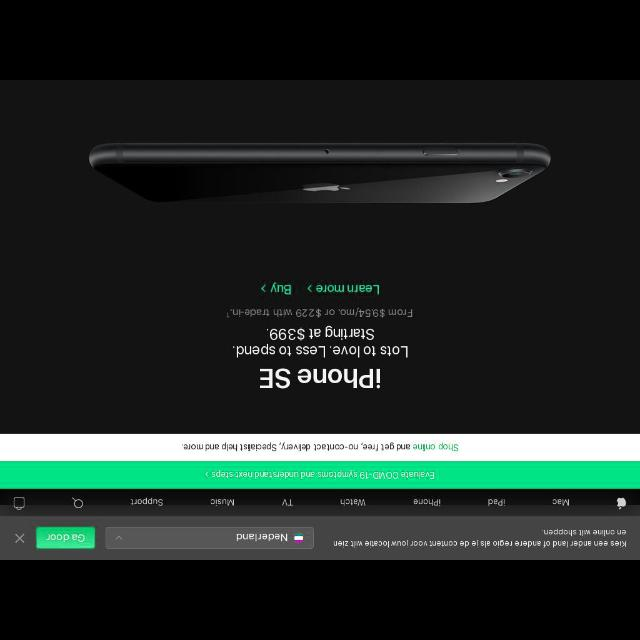backgroundimage: (1, 81, 639, 433)
icon: (12, 496, 26, 512), (614, 496, 628, 510), (14, 531, 26, 545), (72, 496, 82, 510), (294, 534, 304, 544), (114, 532, 124, 542), (204, 472, 210, 478)
link: (306, 280, 382, 296), (258, 280, 292, 296), (412, 443, 458, 453)
spinner: (106, 528, 314, 548)
text: (226, 326, 412, 362), (332, 528, 626, 548), (180, 442, 462, 456), (257, 366, 385, 392), (223, 306, 414, 322), (210, 469, 438, 481), (235, 532, 288, 542), (46, 532, 84, 544), (129, 497, 167, 508), (412, 498, 442, 508), (339, 498, 366, 508), (210, 498, 236, 507), (552, 498, 570, 506), (487, 499, 505, 507), (280, 499, 294, 506)
textbutton: (37, 528, 94, 548)
toolbar: (1, 489, 639, 515)
